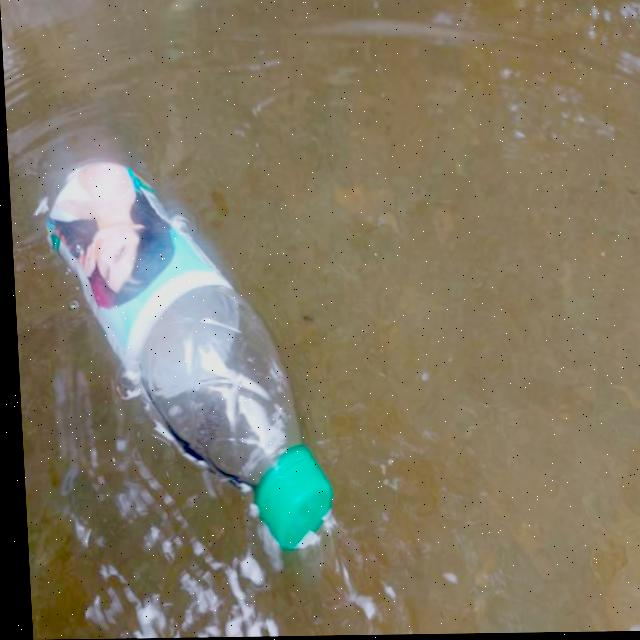waterbottle: (40, 108, 335, 575)
